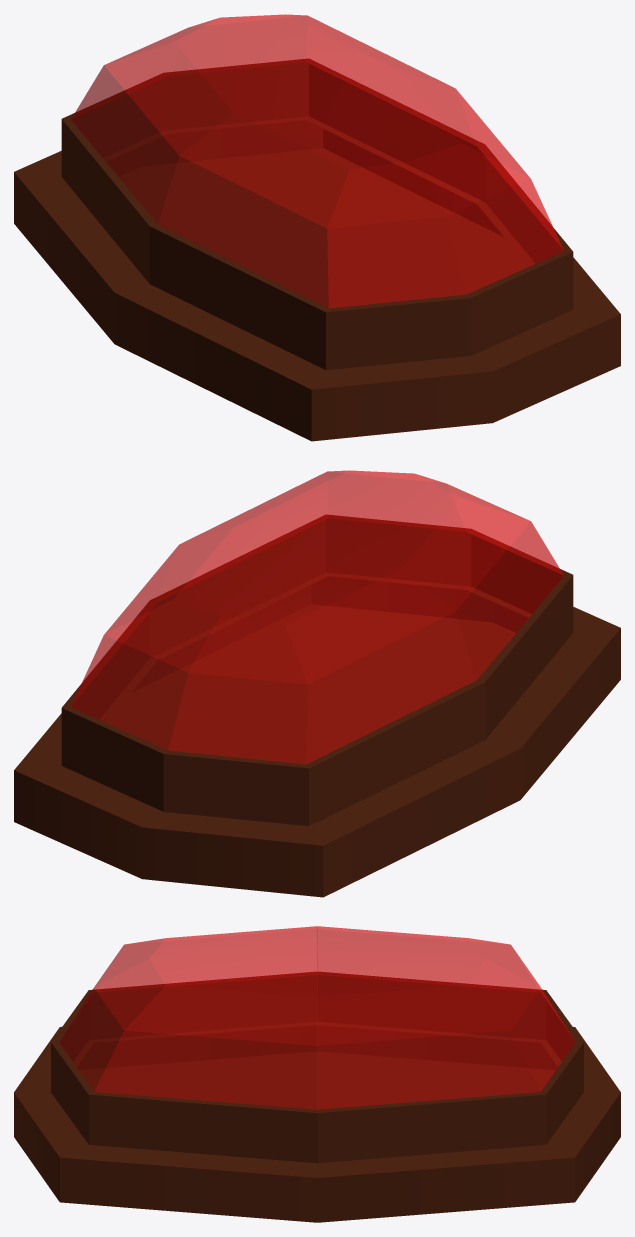
The model's file is SM_ENV_DECO_RED_LIGHT_01.FBX.
3 views of the same model, one above another, from view 1: azimuth 30°, elevation 25°; view 2: azimuth 150°, elevation 25°; view 3: azimuth 270°, elevation 25° (orthographic). The views are drawn at different scales.
Visible parts, largest first — view 1: deko_red_light_01; view 2: deko_red_light_01; view 3: deko_red_light_01.
Part boxes in pixels (<box>): deko_red_light_01: <box>14,14,620,441</box>; deko_red_light_01: <box>14,470,620,897</box>; deko_red_light_01: <box>14,926,620,1222</box>.
Bounding box in the file's own units: 19.85 × 10.36 × 29.71.
